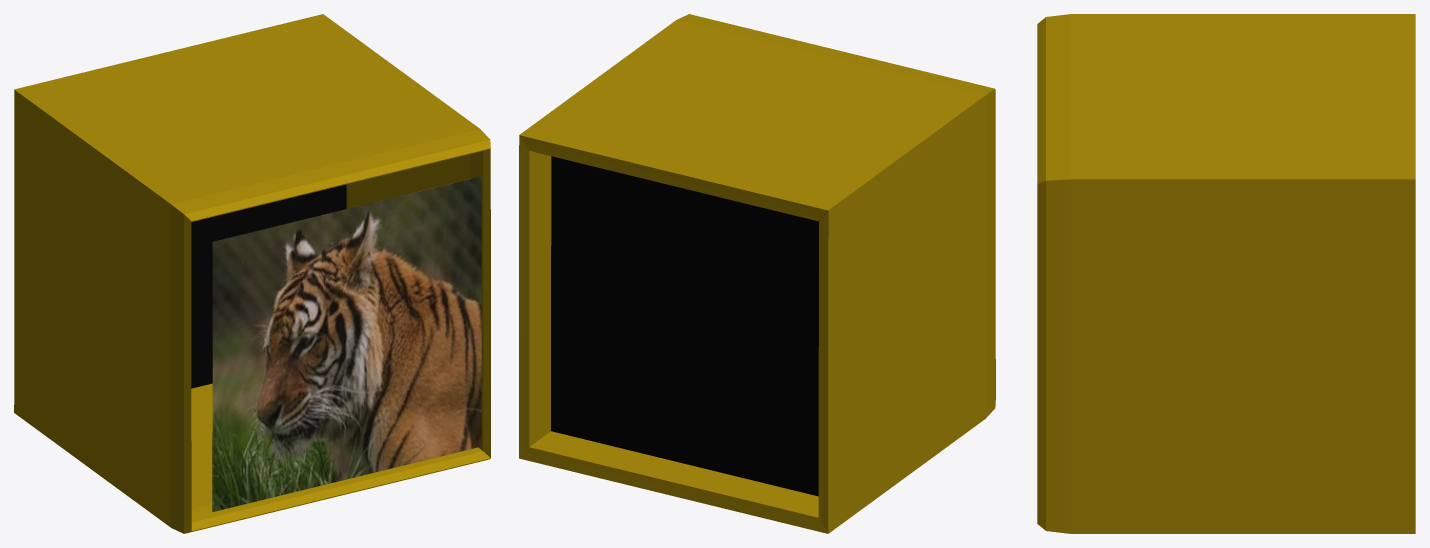
Rendered from sh-contrib-tiger-frame.glb.
3 views of the same model, side by side, from view 1: azimuth 30°, elevation 25°; view 2: azimuth 150°, elevation 25°; view 3: azimuth 270°, elevation 25° (orthographic). The views are drawn at different scales.
Parts seen in each view (by area): view 1: WoodFrame_Cylinder_Wood.002, Photo_Cube_Material_Tiger.jpg, Frame_Black_Material.013; view 2: WoodFrame_Cylinder_Wood.002, Frame_Black_Material.013; view 3: WoodFrame_Cylinder_Wood.002.
Part boxes in pixels (x1,y1,x2,y2): WoodFrame_Cylinder_Wood.002: (14, 14, 490, 533); Photo_Cube_Material_Tiger.jpg: (212, 176, 481, 511); Frame_Black_Material.013: (191, 184, 346, 388); WoodFrame_Cylinder_Wood.002: (519, 14, 995, 533); Frame_Black_Material.013: (551, 156, 826, 496); WoodFrame_Cylinder_Wood.002: (1037, 14, 1415, 533).
Size of the model in its own units: 1 by 1 by 1.
3 materials, 1 textured.
